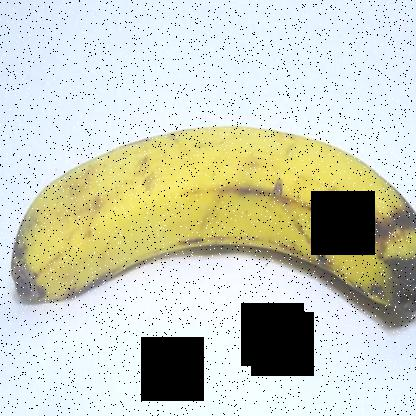ripe: (10, 112, 415, 339)
